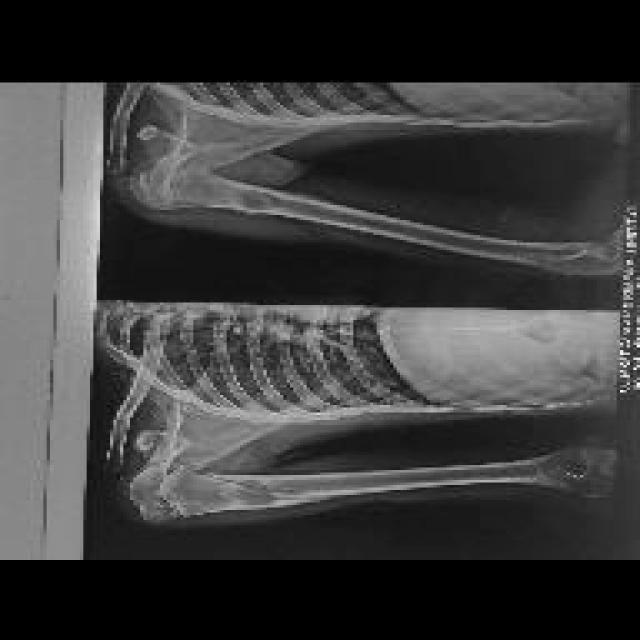bone-cancer: (221, 477, 274, 507), (224, 189, 285, 215)
